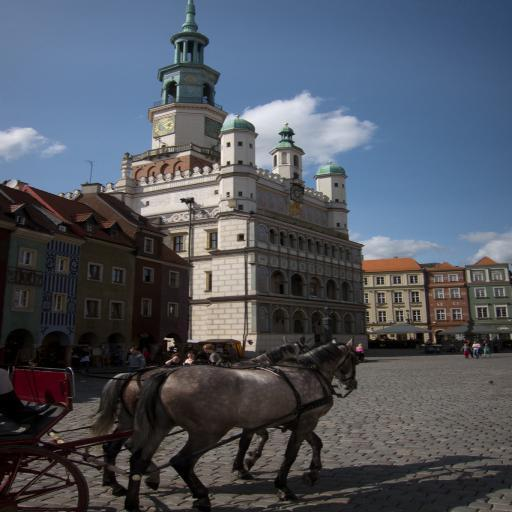horse: (122, 338, 357, 511), (88, 334, 314, 496)
